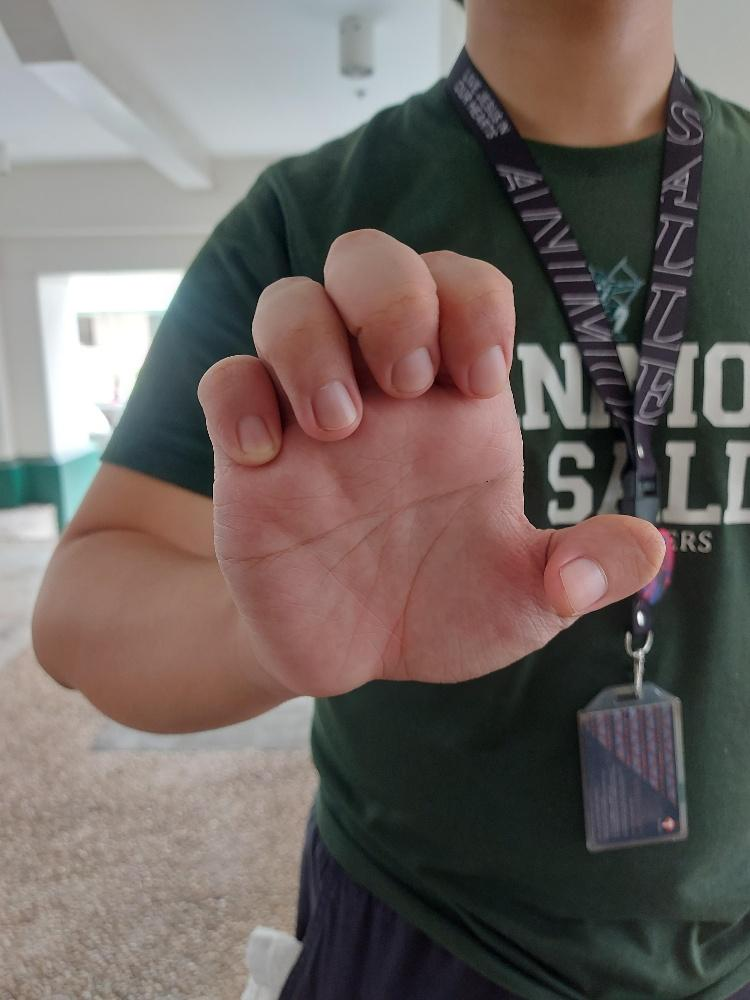e: (191, 224, 665, 697)
